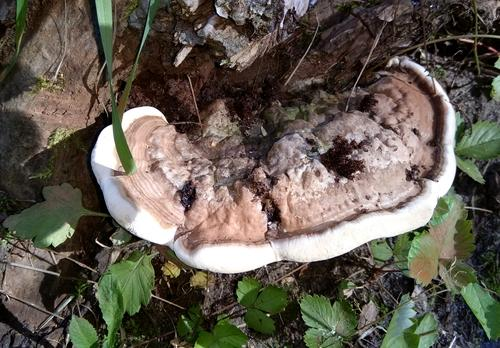Ganoderma - Fruit Body: (92, 53, 463, 280)
